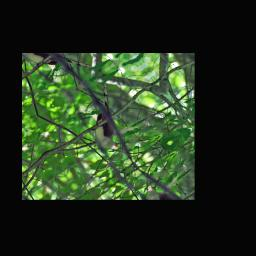Cuckoo: (65, 80, 149, 157)
